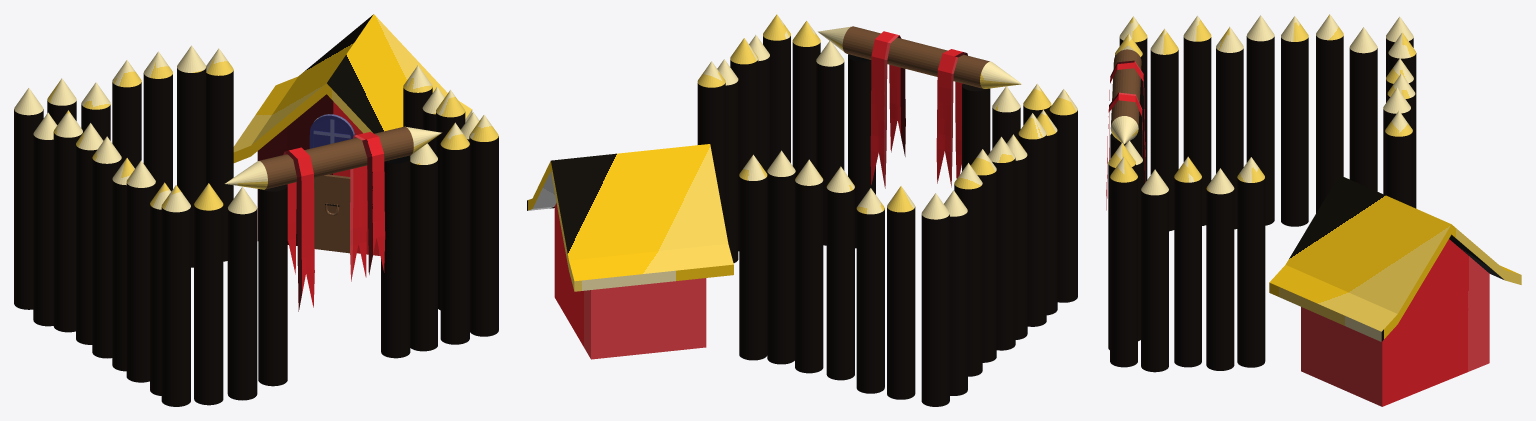
Rendered from barrack.fbx.
3 renders of one model, left to right at view 1: azimuth 30°, elevation 25°; view 2: azimuth 150°, elevation 25°; view 3: azimuth 270°, elevation 25°, orthographic. The views are drawn at different scales.
Visible parts, largest first — view 1: Plane; view 2: Plane; view 3: Plane.
Boxes of the visible parts, bbox=[...] form: Plane: bbox=[14, 14, 498, 406]; Plane: bbox=[527, 14, 1077, 406]; Plane: bbox=[1106, 14, 1521, 406].
Size of the model in its own units: 2182 by 1069 by 1851.
